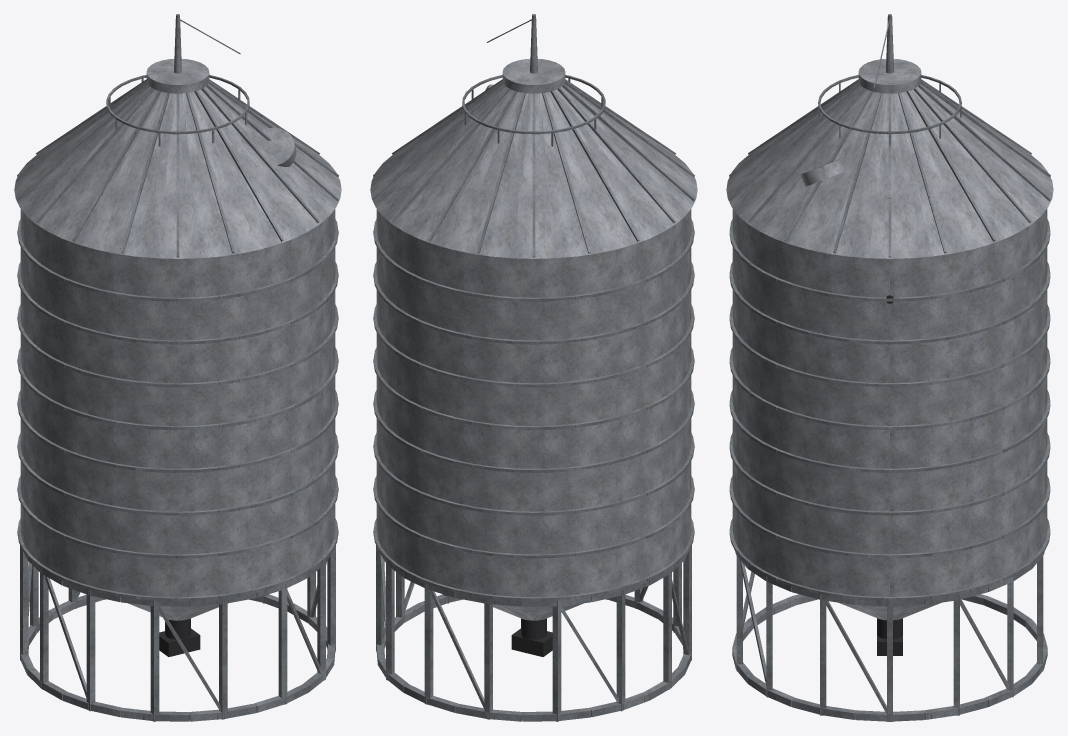
The model's file is silo.glb.
The picture shows the model from 3 angles, left to right: view 1: azimuth 30°, elevation 25°; view 2: azimuth 150°, elevation 25°; view 3: azimuth 270°, elevation 25°; orthographic projection.
Visible parts, largest first — view 1: silo2; view 2: silo2; view 3: silo2.
Part boxes in pixels (x1,y1,x2,y2): silo2: [14, 14, 341, 721]; silo2: [370, 14, 697, 721]; silo2: [726, 14, 1053, 721].
Bounding box in the file's own units: 2.08 × 4.49 × 2.08.
3 materials, 2 textured.
